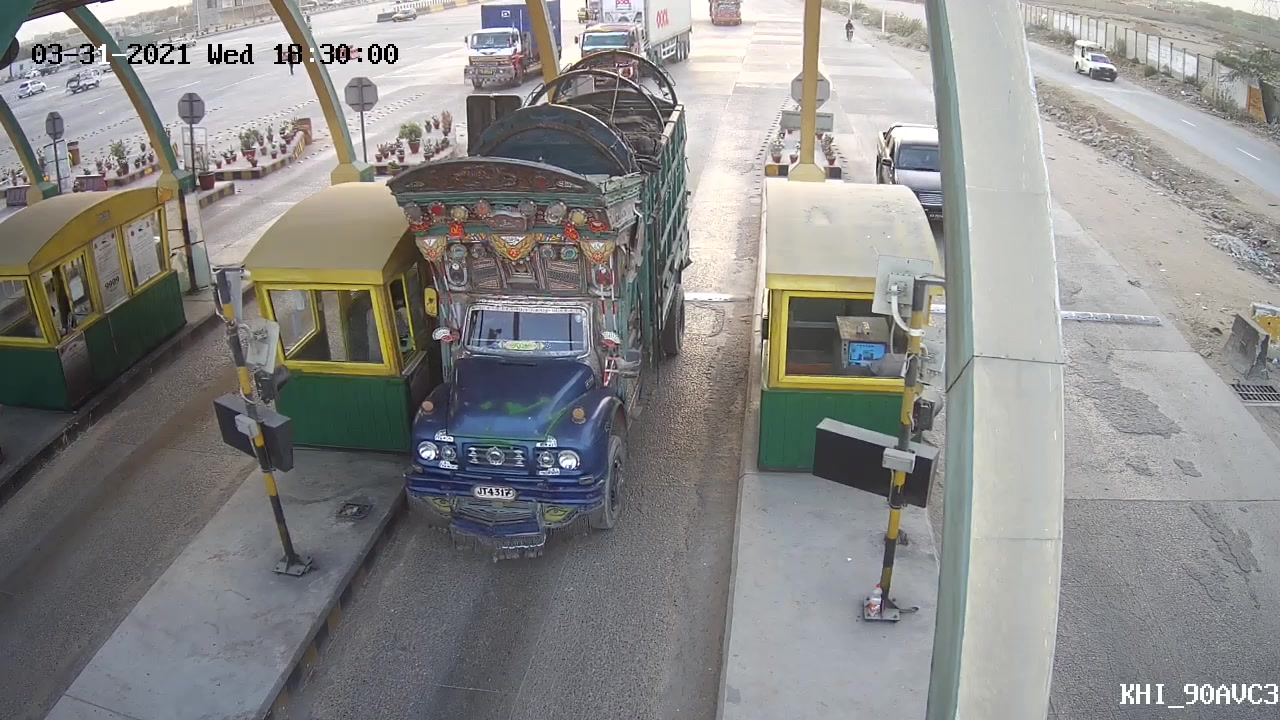F5: (382, 51, 691, 552)
